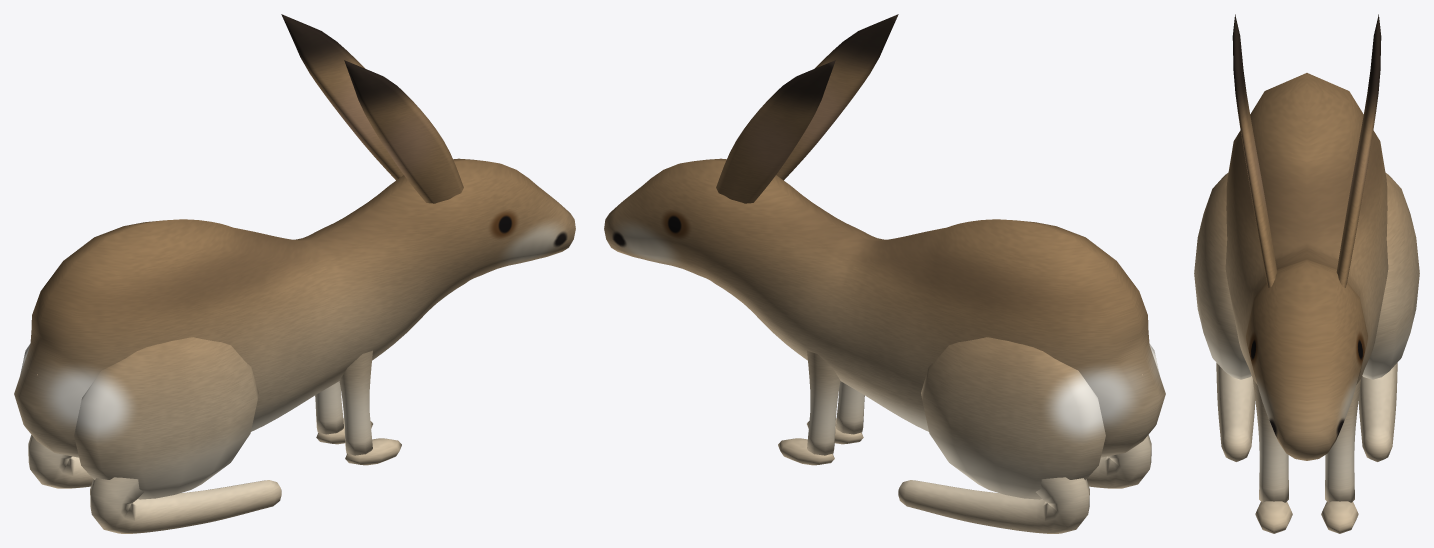
The model's file is hare.fbx.
3 renders of one model, left to right at view 1: azimuth 30°, elevation 25°; view 2: azimuth 150°, elevation 25°; view 3: azimuth 270°, elevation 25°, orthographic. The views are drawn at different scales.
Visible parts, largest first — view 1: hare; view 2: hare; view 3: hare.
Boxes of the visible parts, x1,y1,x2,y2 form: hare: (14,14,575,533); hare: (604,14,1165,533); hare: (1194,14,1419,533).
Size of the model in its own units: 22.43 by 72.2 by 53.77.
Materials: 1 (1 with a texture image).
